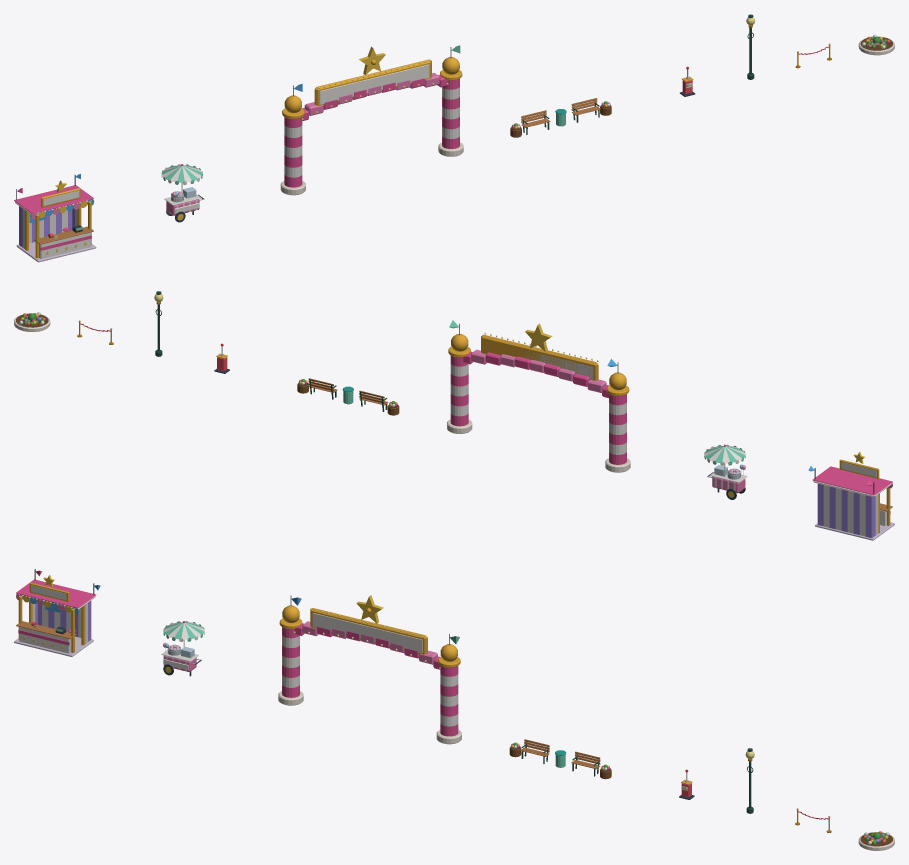
File: park.glb
The picture shows the model from 3 angles, top to bottom: view 1: azimuth 30°, elevation 25°; view 2: azimuth 150°, elevation 25°; view 3: azimuth 330°, elevation 25°; orthographic projection.
Visible parts, largest first — view 1: pk_gate_mesh, pk_booth_mesh, pk_cart_mesh, pk_benches_mesh, pk_flowers_mesh; view 2: pk_gate_mesh, pk_booth_mesh, pk_cart_mesh, pk_benches_mesh, pk_flowers_mesh; view 3: pk_gate_mesh, pk_booth_mesh, pk_cart_mesh, pk_benches_mesh, pk_flowers_mesh.
Part boxes in pixels (bbox=[...]): pk_gate_mesh: bbox=[280, 45, 463, 195]; pk_booth_mesh: bbox=[14, 174, 96, 262]; pk_cart_mesh: bbox=[161, 164, 204, 222]; pk_benches_mesh: bbox=[510, 98, 611, 137]; pk_flowers_mesh: bbox=[858, 34, 894, 55]; pk_gate_mesh: bbox=[447, 320, 630, 472]; pk_booth_mesh: bbox=[808, 459, 894, 540]; pk_cart_mesh: bbox=[704, 444, 747, 499]; pk_benches_mesh: bbox=[297, 378, 399, 415]; pk_flowers_mesh: bbox=[14, 312, 50, 331]; pk_gate_mesh: bbox=[278, 595, 461, 744]; pk_booth_mesh: bbox=[14, 569, 100, 656]; pk_cart_mesh: bbox=[161, 621, 204, 676]; pk_benches_mesh: bbox=[509, 739, 611, 779]; pk_flowers_mesh: bbox=[858, 831, 894, 850].
Bounding box in the file's own units: 54.98 × 7.51 × 2.55.
